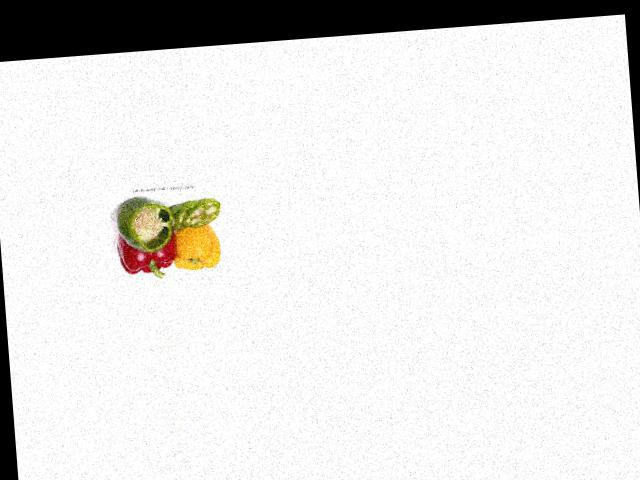bell_pepper: (110, 199, 176, 256)
